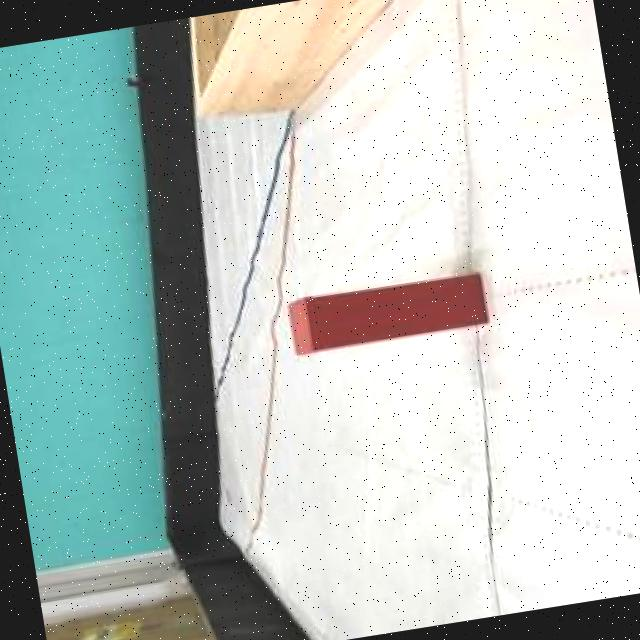redbox: (286, 270, 490, 356)
